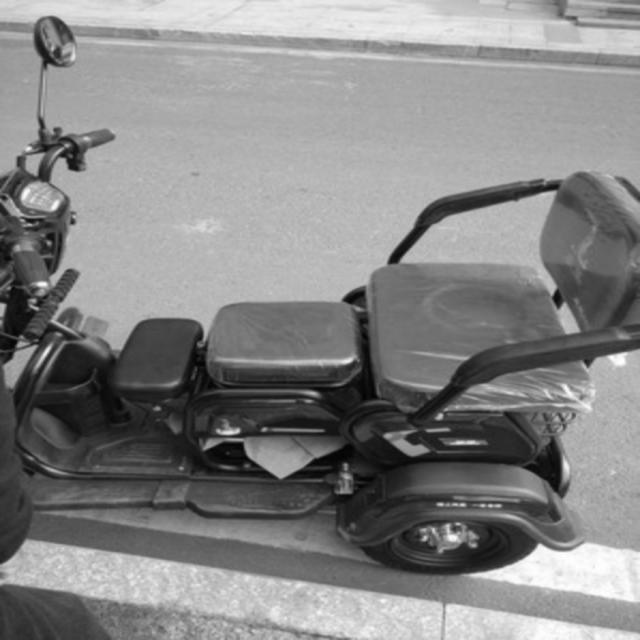tricycle: (4, 14, 638, 574)
